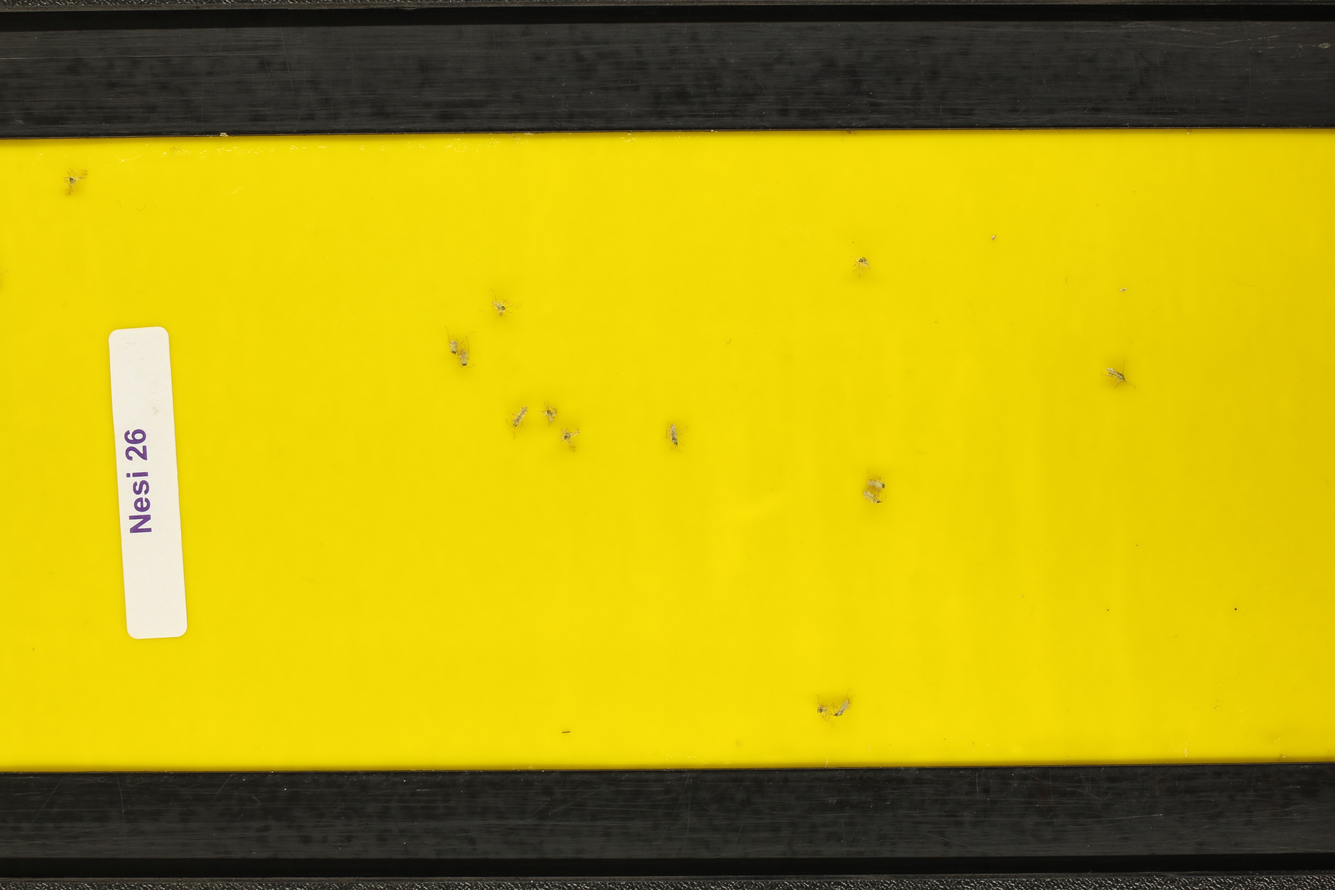NC: (662, 415, 689, 452), (487, 293, 519, 323), (500, 403, 533, 431), (831, 689, 859, 722), (1100, 365, 1136, 390), (847, 249, 875, 276), (861, 464, 889, 491), (812, 693, 836, 723), (860, 490, 892, 511), (559, 427, 585, 449), (458, 345, 477, 373), (448, 334, 460, 358)
